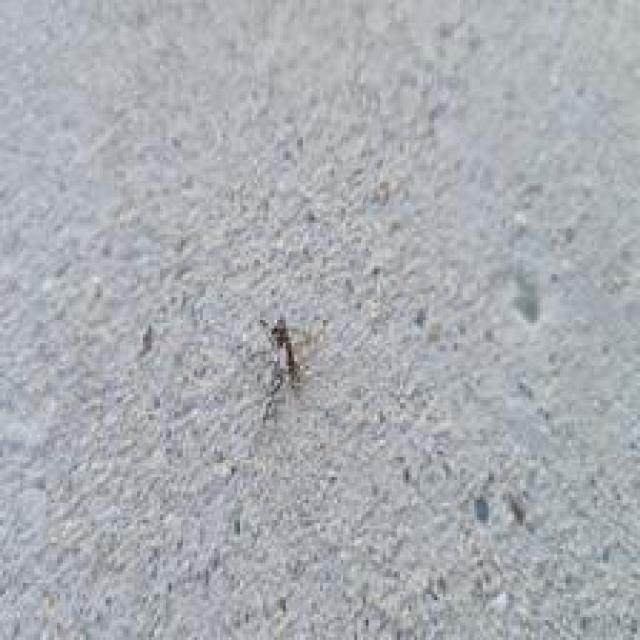Aedes albopictus: (253, 313, 327, 424)
